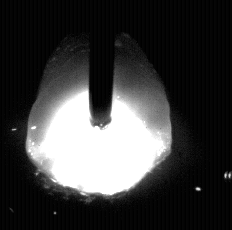arame: (90, 0, 113, 130)
poca: (25, 0, 171, 230)
